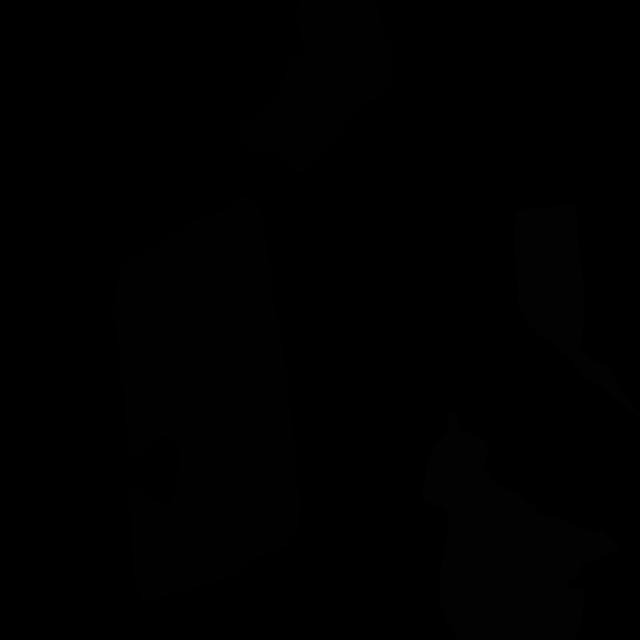cardboard: (421, 410, 620, 640), (514, 201, 640, 421)
rigid_plastic: (113, 194, 302, 605), (236, 0, 394, 174)
